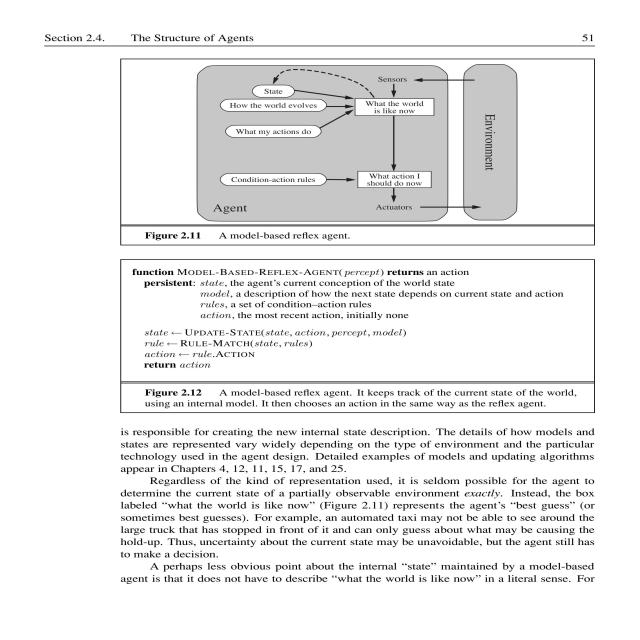diagram: (79, 49, 640, 413)
